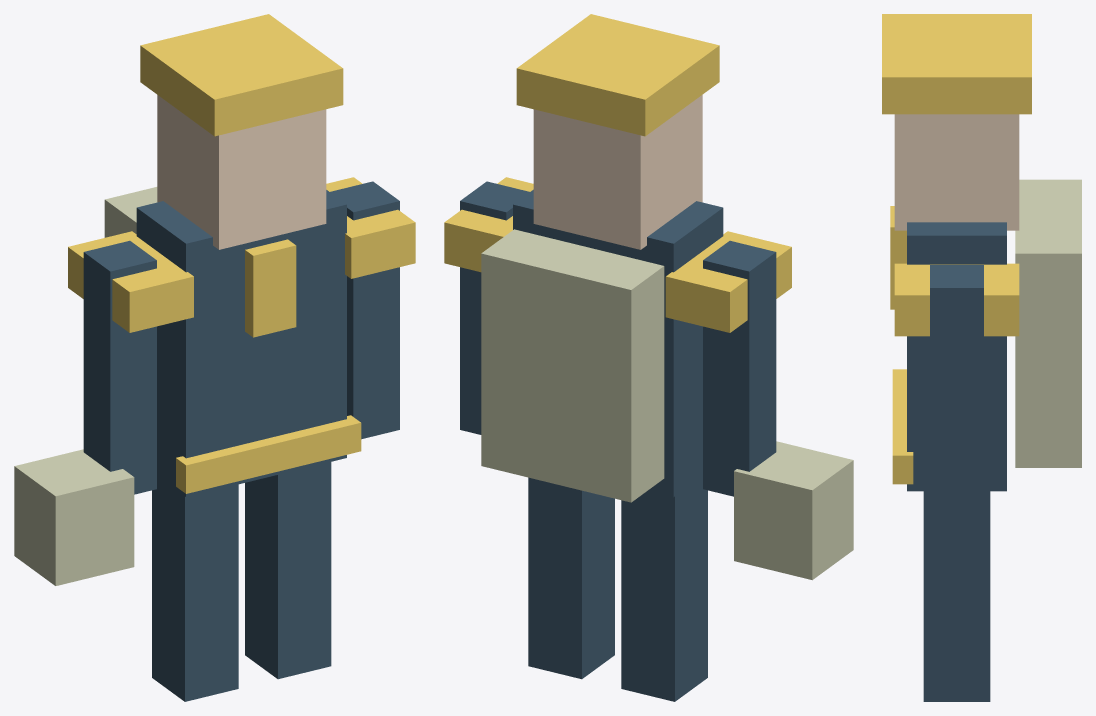
File: 17_luma_voxmere_archivist_at_emergency.glb
3 renders of one model, left to right at view 1: azimuth 30°, elevation 25°; view 2: azimuth 150°, elevation 25°; view 3: azimuth 270°, elevation 25°, orthographic.
Parts seen in each view (by area): view 1: Luma Voxmere, Archivist at Emergency; view 2: Luma Voxmere, Archivist at Emergency; view 3: Luma Voxmere, Archivist at Emergency.
Boxes of the visible parts, x1,y1,x2,y2 form: Luma Voxmere, Archivist at Emergency: [14, 14, 415, 701]; Luma Voxmere, Archivist at Emergency: [444, 14, 853, 701]; Luma Voxmere, Archivist at Emergency: [882, 14, 1081, 701].
Bounding box in the file's own units: 0.9402 × 1.55 × 0.4536.
